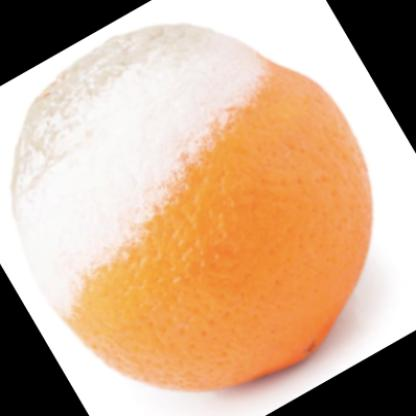rotten: (12, 24, 374, 393)
